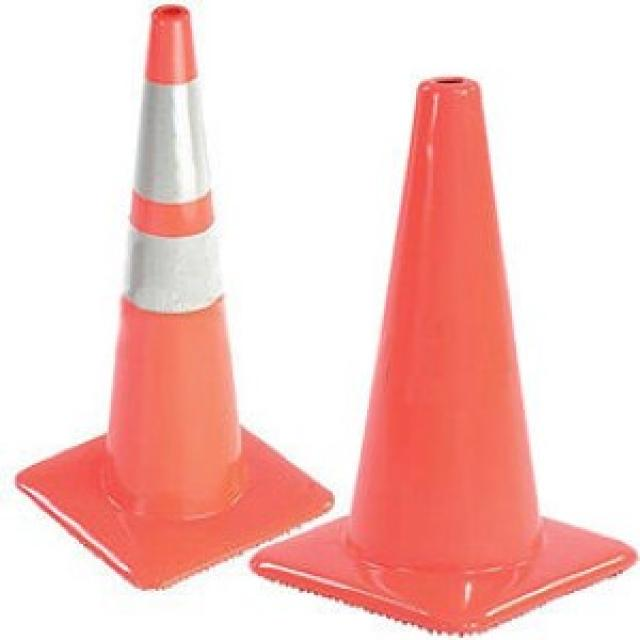cone: (250, 74, 636, 632), (13, 2, 333, 589)
